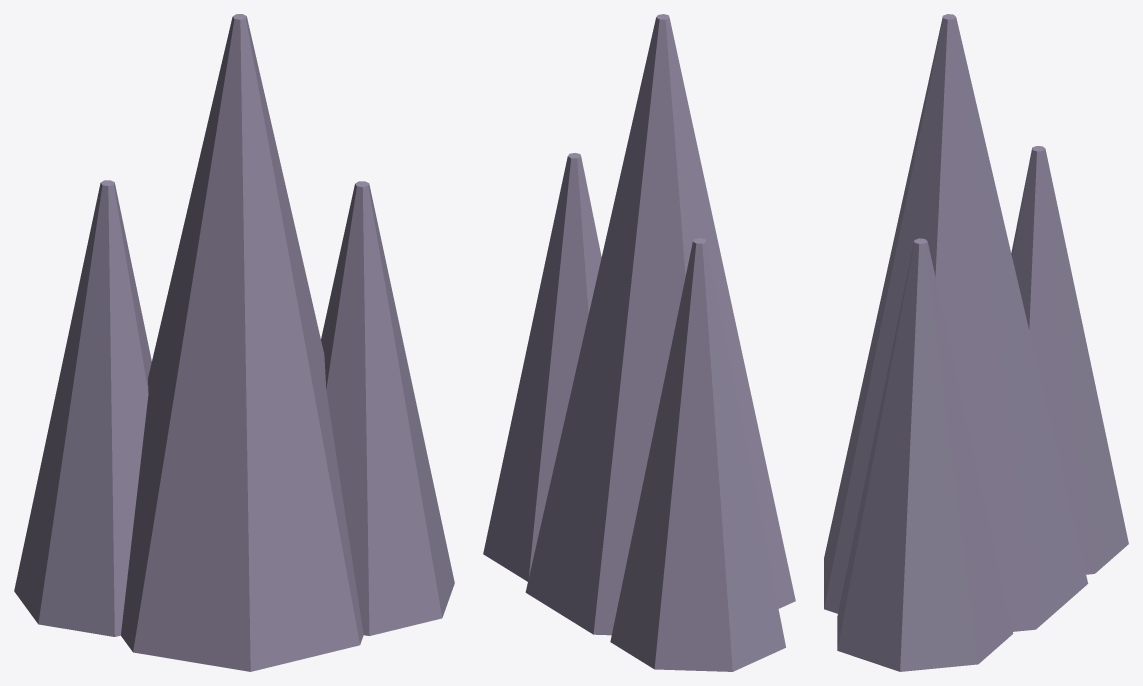
Rendered from kit__stalagmite.fbx.
The picture shows the model from 3 angles, left to right: view 1: azimuth 30°, elevation 25°; view 2: azimuth 150°, elevation 25°; view 3: azimuth 270°, elevation 25°; orthographic projection. The views are drawn at different scales.
Visible parts, largest first — view 1: kit__stalagmite; view 2: kit__stalagmite; view 3: kit__stalagmite.
Part boxes in pixels (<box>): kit__stalagmite: <box>14,14,454,671</box>; kit__stalagmite: <box>483,14,795,671</box>; kit__stalagmite: <box>824,14,1128,671</box>.
Bounding box in the file's own units: 1.12 × 1.8 × 0.8776.
